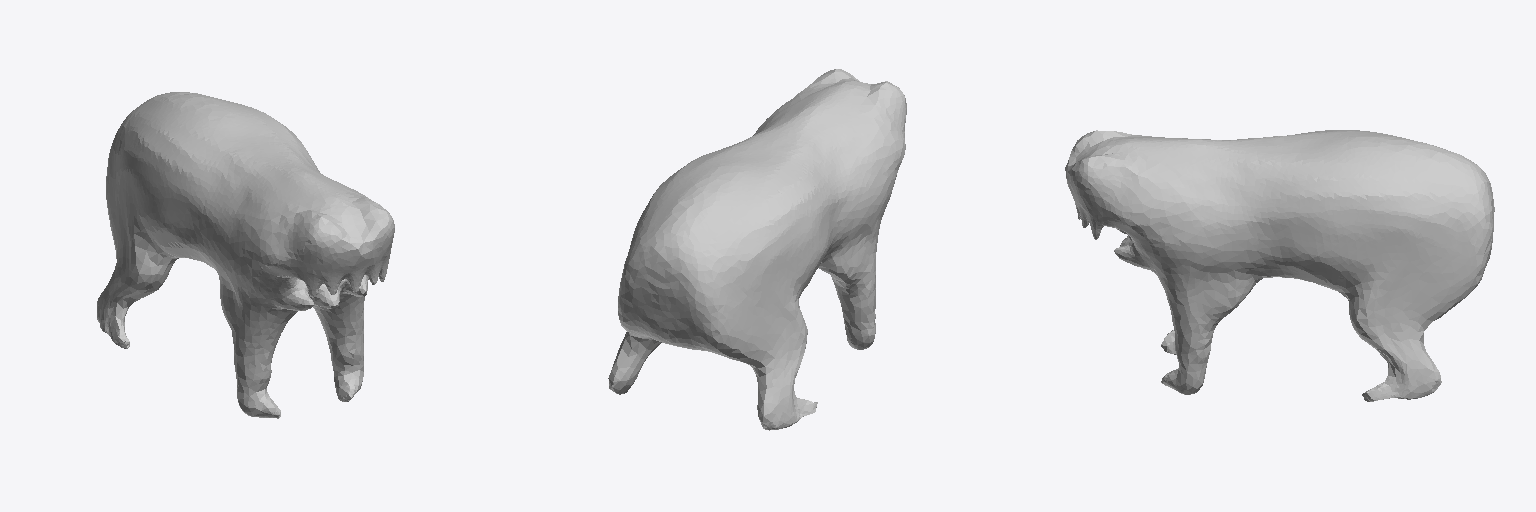
The model's file is monster0.obj.
3 renders of one model, left to right at view 1: azimuth 30°, elevation 25°; view 2: azimuth 150°, elevation 25°; view 3: azimuth 270°, elevation 25°, orthographic.
Visible parts, largest first — view 1: Sphere_Sphere.001; view 2: Sphere_Sphere.001; view 3: Sphere_Sphere.001.
Boxes of the visible parts, box(x1,y1,x2,y2) form: Sphere_Sphere.001: box(97, 92, 394, 418); Sphere_Sphere.001: box(608, 69, 906, 430); Sphere_Sphere.001: box(1065, 130, 1494, 401).
Bounding box in the file's own units: 2.4 × 2.79 × 4.72.